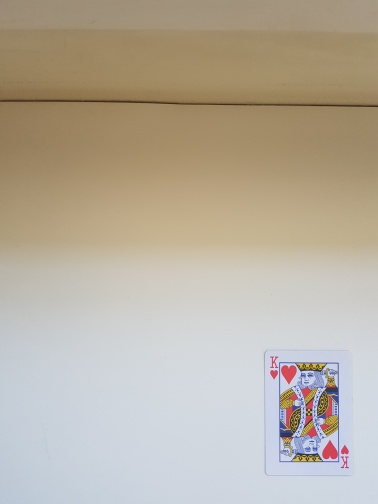king: (264, 347, 353, 477)
